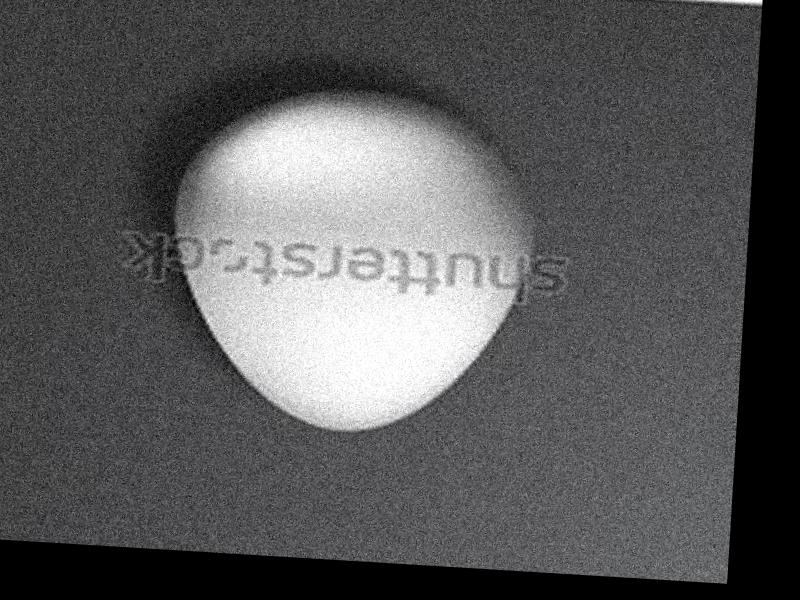Eggs: (163, 83, 541, 444)
